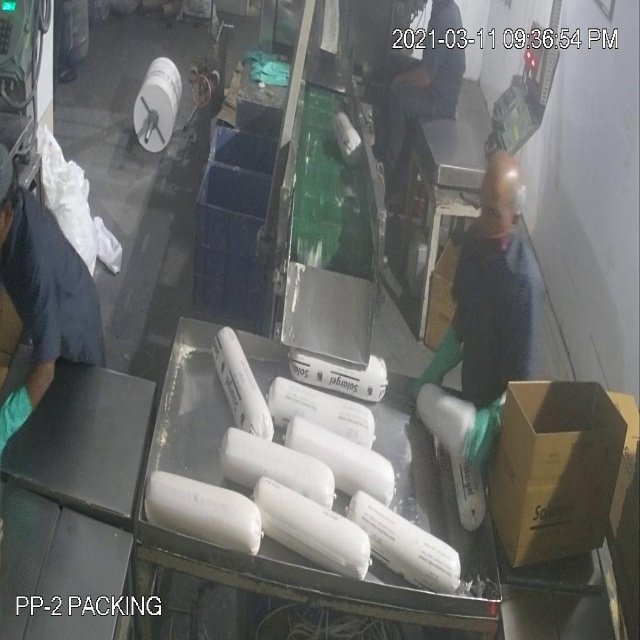Guantes: (463, 389, 518, 468)
